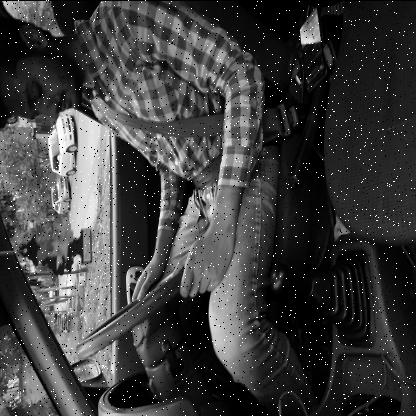seatbelt: (0, 44, 198, 152)
